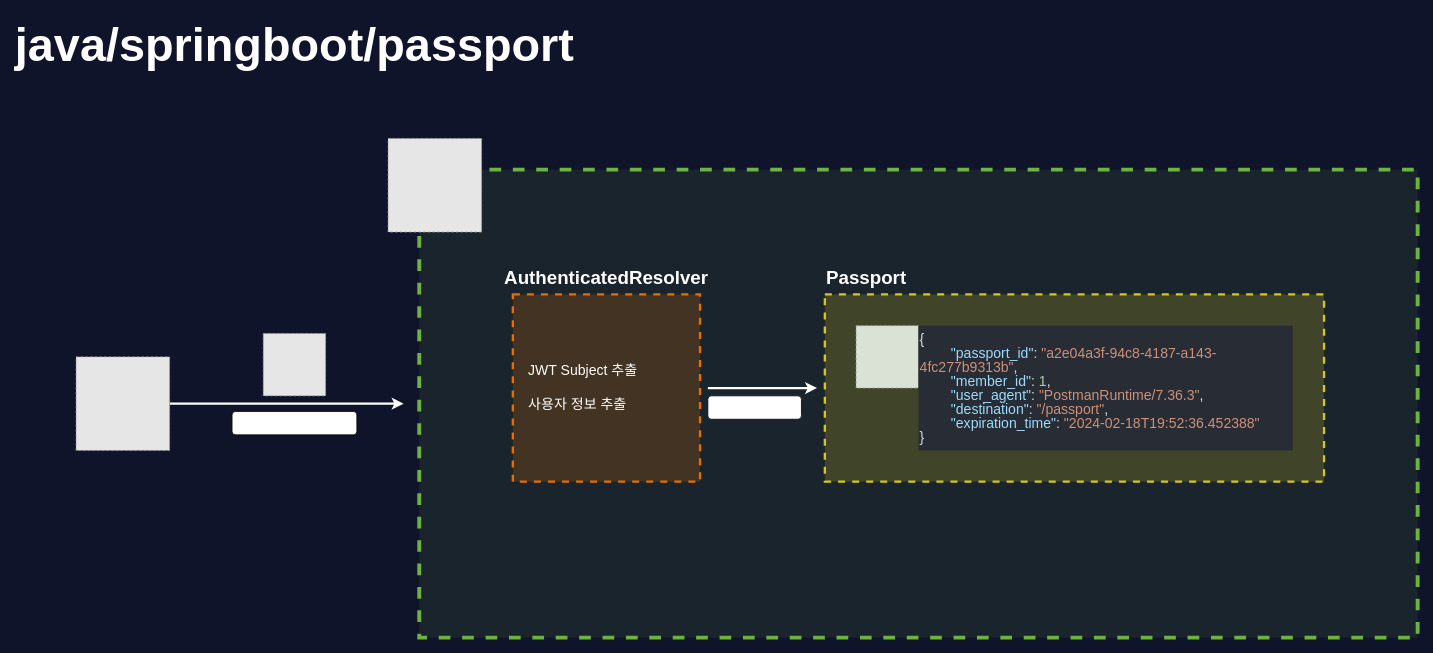
Image size: 1433x653. Some labels were removed from this diagram. Grey dashed boxes stand in for pictures. The centre of each missing label's shape, as x and y in pixels:
"Auth Request" belongs at point 294,423.
"create" belongs at point 754,407.
